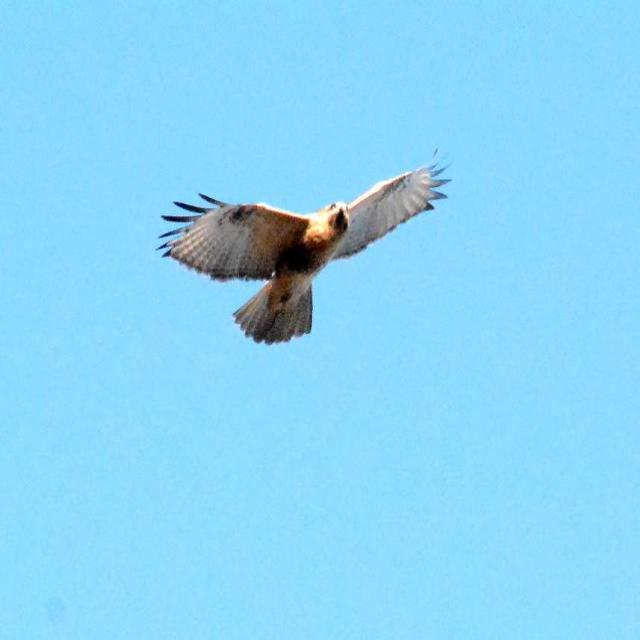bird: (156, 143, 458, 347)
